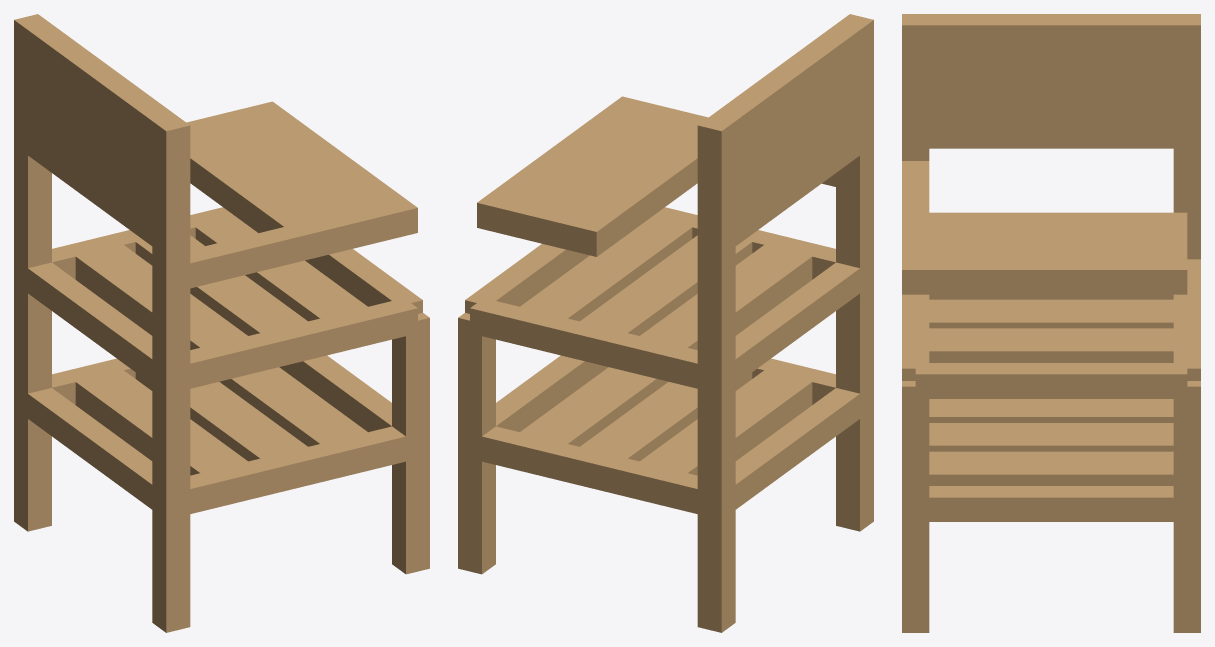
The model's file is mejaTC.glb.
The picture shows the model from 3 angles, left to right: view 1: azimuth 30°, elevation 25°; view 2: azimuth 150°, elevation 25°; view 3: azimuth 270°, elevation 25°; orthographic projection.
Parts seen in each view (by area): view 1: Cube.023; view 2: Cube.023; view 3: Cube.023.
Boxes of the visible parts, x1,y1,x2,y2 form: Cube.023: (14, 14, 429, 632); Cube.023: (458, 14, 873, 632); Cube.023: (902, 14, 1200, 632).
Bounding box in the file's own units: 0.9535 × 1.73 × 0.9535.
